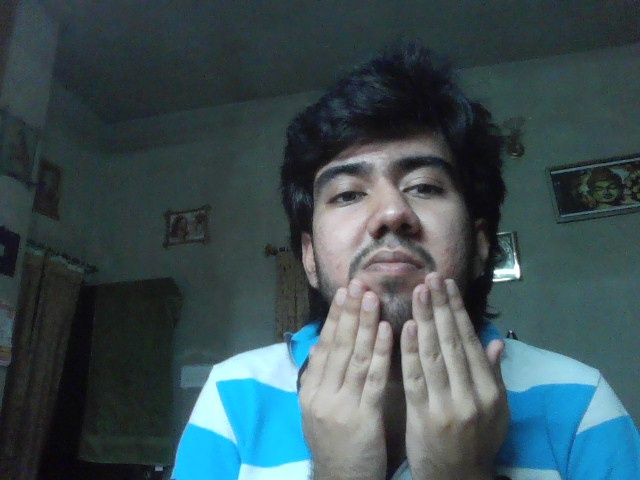ThankYou: (299, 272, 510, 480)
